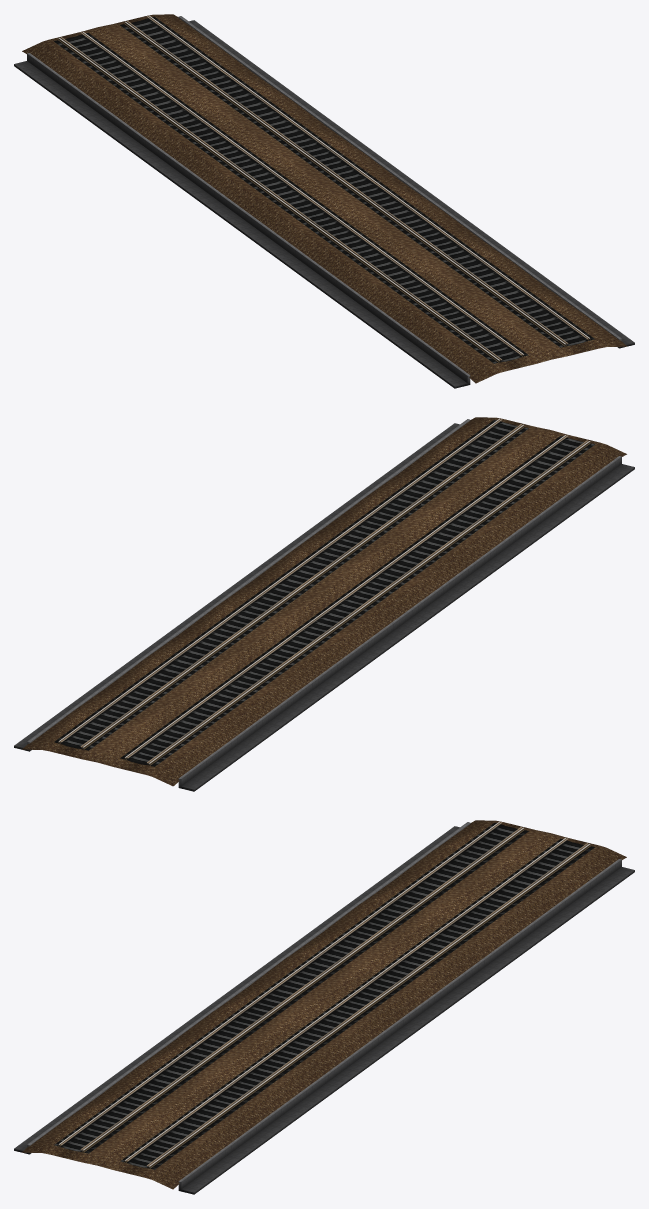
Rendered from HQ_2RAIL_150.glb.
3 renders of one model, top to bottom at view 1: azimuth 30°, elevation 25°; view 2: azimuth 150°, elevation 25°; view 3: azimuth 330°, elevation 25°, orthographic.
Parts seen in each view (by area): view 1: Jari_All3, R000_RG_R3, R000_RG_L3; view 2: Jari_All3, R000_RG_R3, R000_RG_L3; view 3: Jari_All3, R000_RG_L3, R000_RG_R3.
Boxes of the visible parts, <box> form: Jari_All3: <box>14,14,634,388</box>; R000_RG_R3: <box>60,21,568,360</box>; R000_RG_L3: <box>80,16,587,355</box>; Jari_All3: <box>14,417,634,791</box>; R000_RG_R3: <box>80,424,588,763</box>; R000_RG_L3: <box>60,419,568,758</box>; Jari_All3: <box>14,820,634,1194</box>; R000_RG_L3: <box>80,827,588,1166</box>; R000_RG_R3: <box>61,822,568,1161</box>.
Size of the model in its own units: 35.42 by 3.35 by 155.
Materials: 7 (6 with a texture image).
